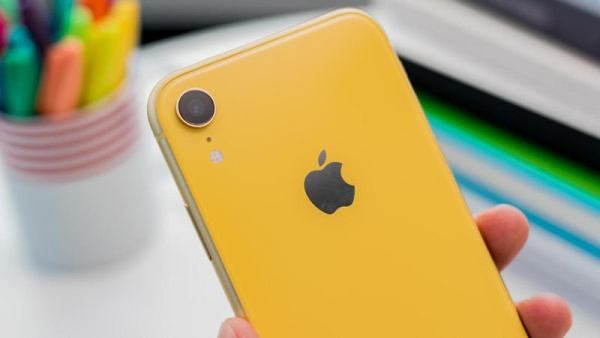apple: (296, 138, 374, 225)
